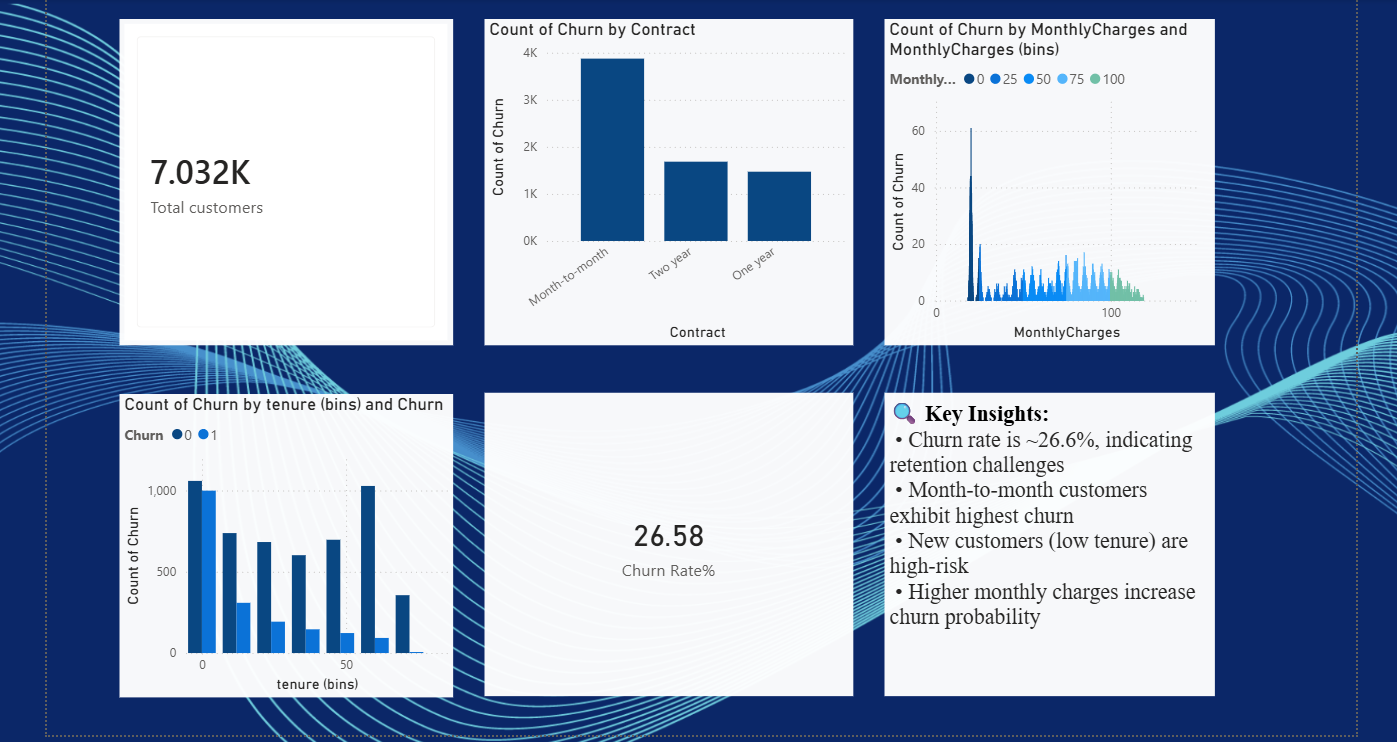

This screenshot's page, from the dashboard's own definition file:
{"tool":"powerbi","page":{"name":"Page 1","canvas":[1280,720],"ordinal":0},"visuals":[{"type":"columnChart","fields":{"Category":["cleaned_churn.Contract"],"Y":["CountNonNull(cleaned_churn.Churn)"]},"box":[428,19.6,360.7,319.2],"z":0},{"type":"clusteredColumnChart","fields":{"Y":["CountNonNull(cleaned_churn.Churn)"],"Category":["cleaned_churn.tenure (bins)"],"Series":["cleaned_churn.Churn"]},"box":[70.9,386.4,326.5,297.1],"z":1000},{"type":"cardVisual","fields":{"Data":["CountNonNull(cleaned_churn.tenure)"]},"box":[70.9,19.6,326.5,319.2],"z":2000},{"type":"card","fields":{"Values":["customer_churn.Churn Rate"]},"box":[428,385.2,360.7,297.1],"z":3000},{"type":"columnChart","fields":{"Category":["customer_churn.MonthlyCharges"],"Y":["CountNonNull(customer_churn.Churn)"],"Series":["customer_churn.MonthlyCharges (bins)"]},"box":[819.3,19.6,322.8,319.2],"z":4000},{"type":"textbox","box":[819.3,385.2,322.8,297.1],"z":5000}]}

Visuals, with their boxes in screenshot pixels (x1, y1, x2, y2):
columnChart - cleaned_churn.Contract x CountNonNull(cleaned_churn.Churn): 482, 16, 849, 341
clusteredColumnChart - CountNonNull(cleaned_churn.Churn) x cleaned_churn.tenure (bins): 119, 389, 451, 691
cardVisual - CountNonNull(cleaned_churn.tenure): 119, 16, 451, 341
card - customer_churn.Churn Rate: 482, 388, 849, 690
columnChart - customer_churn.MonthlyCharges x CountNonNull(customer_churn.Churn): 880, 16, 1208, 341
textbox: 880, 388, 1208, 690
